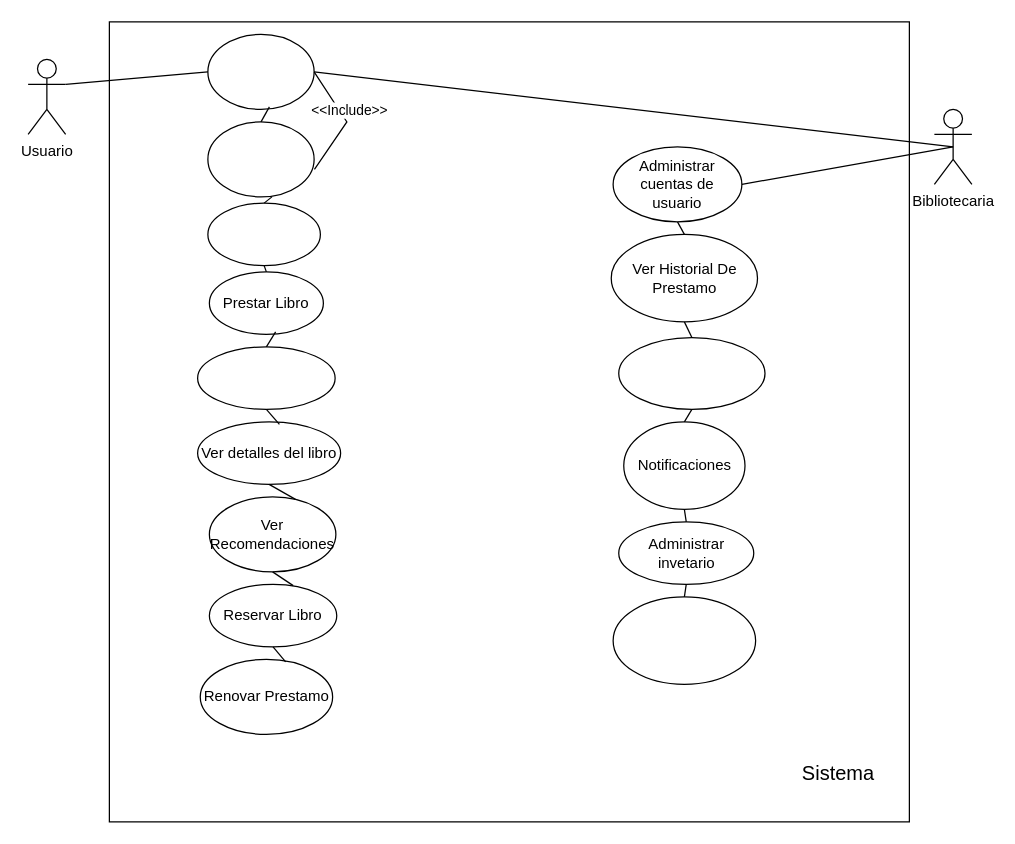
Image size: 1015x844. Some labels were removed from this diagram. Here are the shapes that lost their labels. From the top down, the centre of each, then its label:
At (260,71): "Resgistro".
At (260,159): "Inicio de sección".
At (263,234): "Búsqueda De un libro".
At (265,377): "Devolver Libro".
At (691,372): "Gestionar Multas".
At (684,640): "Generar Informes".
